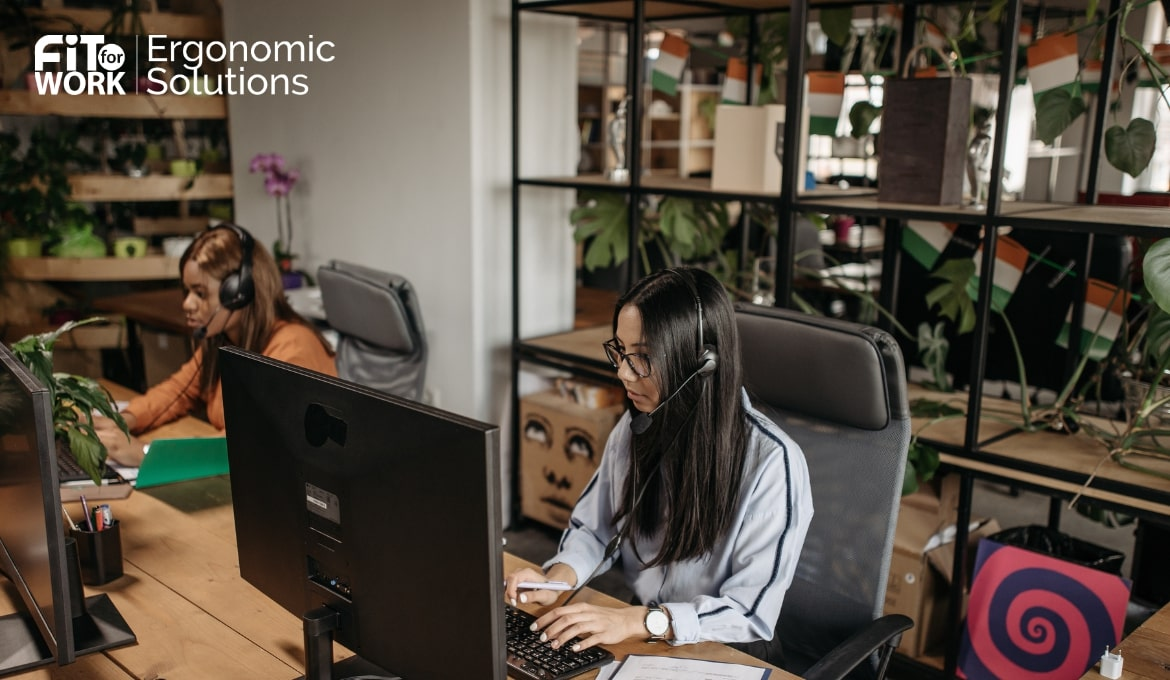not a gesture sign: (225, 0, 516, 420), (523, 19, 575, 168), (521, 197, 572, 329)
